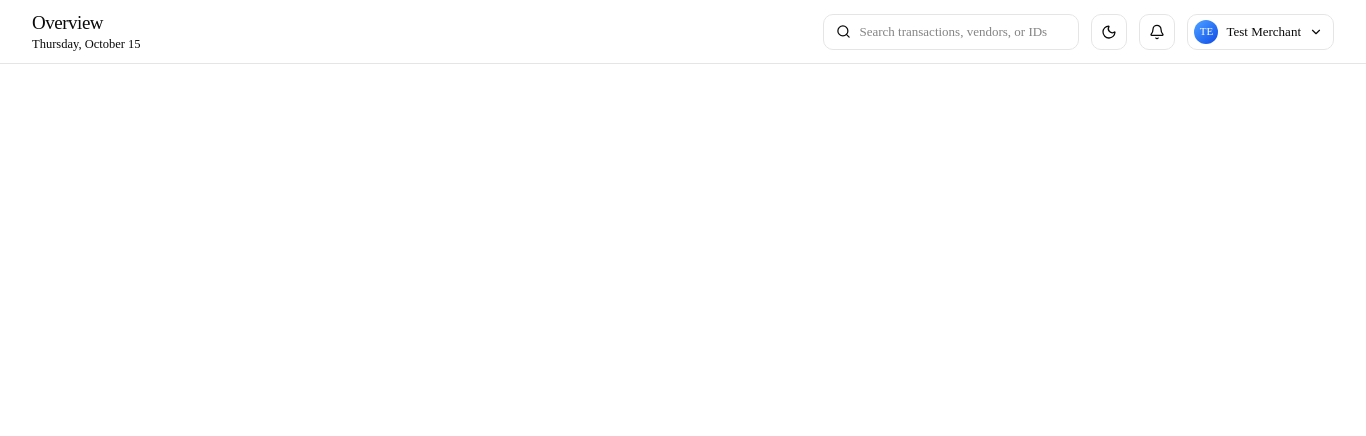
Test: Topbar Notifications UI › safely strips GMT/UTC from historical New Login messages and converts footers to IST
Open notifications dropdown
Click the button named "Notifications": (1158, 32) [1140,14,1176,50]
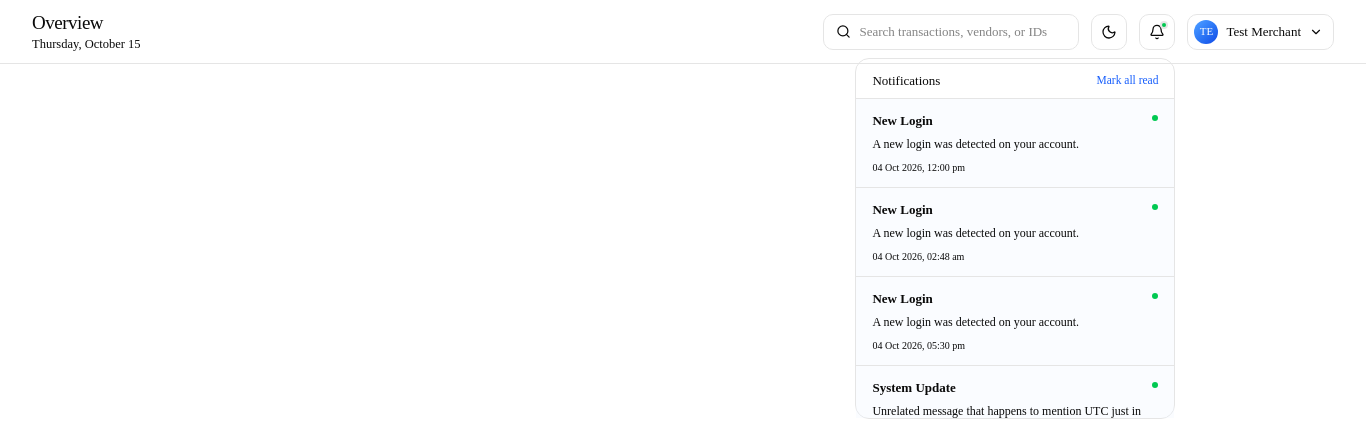
Now the text "04 Oct 2026, 12:00 pm" is shown, box [872,162,965,173]
Now the text "04 Oct 2026, 02:48 am" is shown, box [872,251,964,262]
Now the text "A new login was detected on your account." is shown 3 times, box [872,136,1079,150]; [872,226,1079,240]; [872,314,1079,328]
